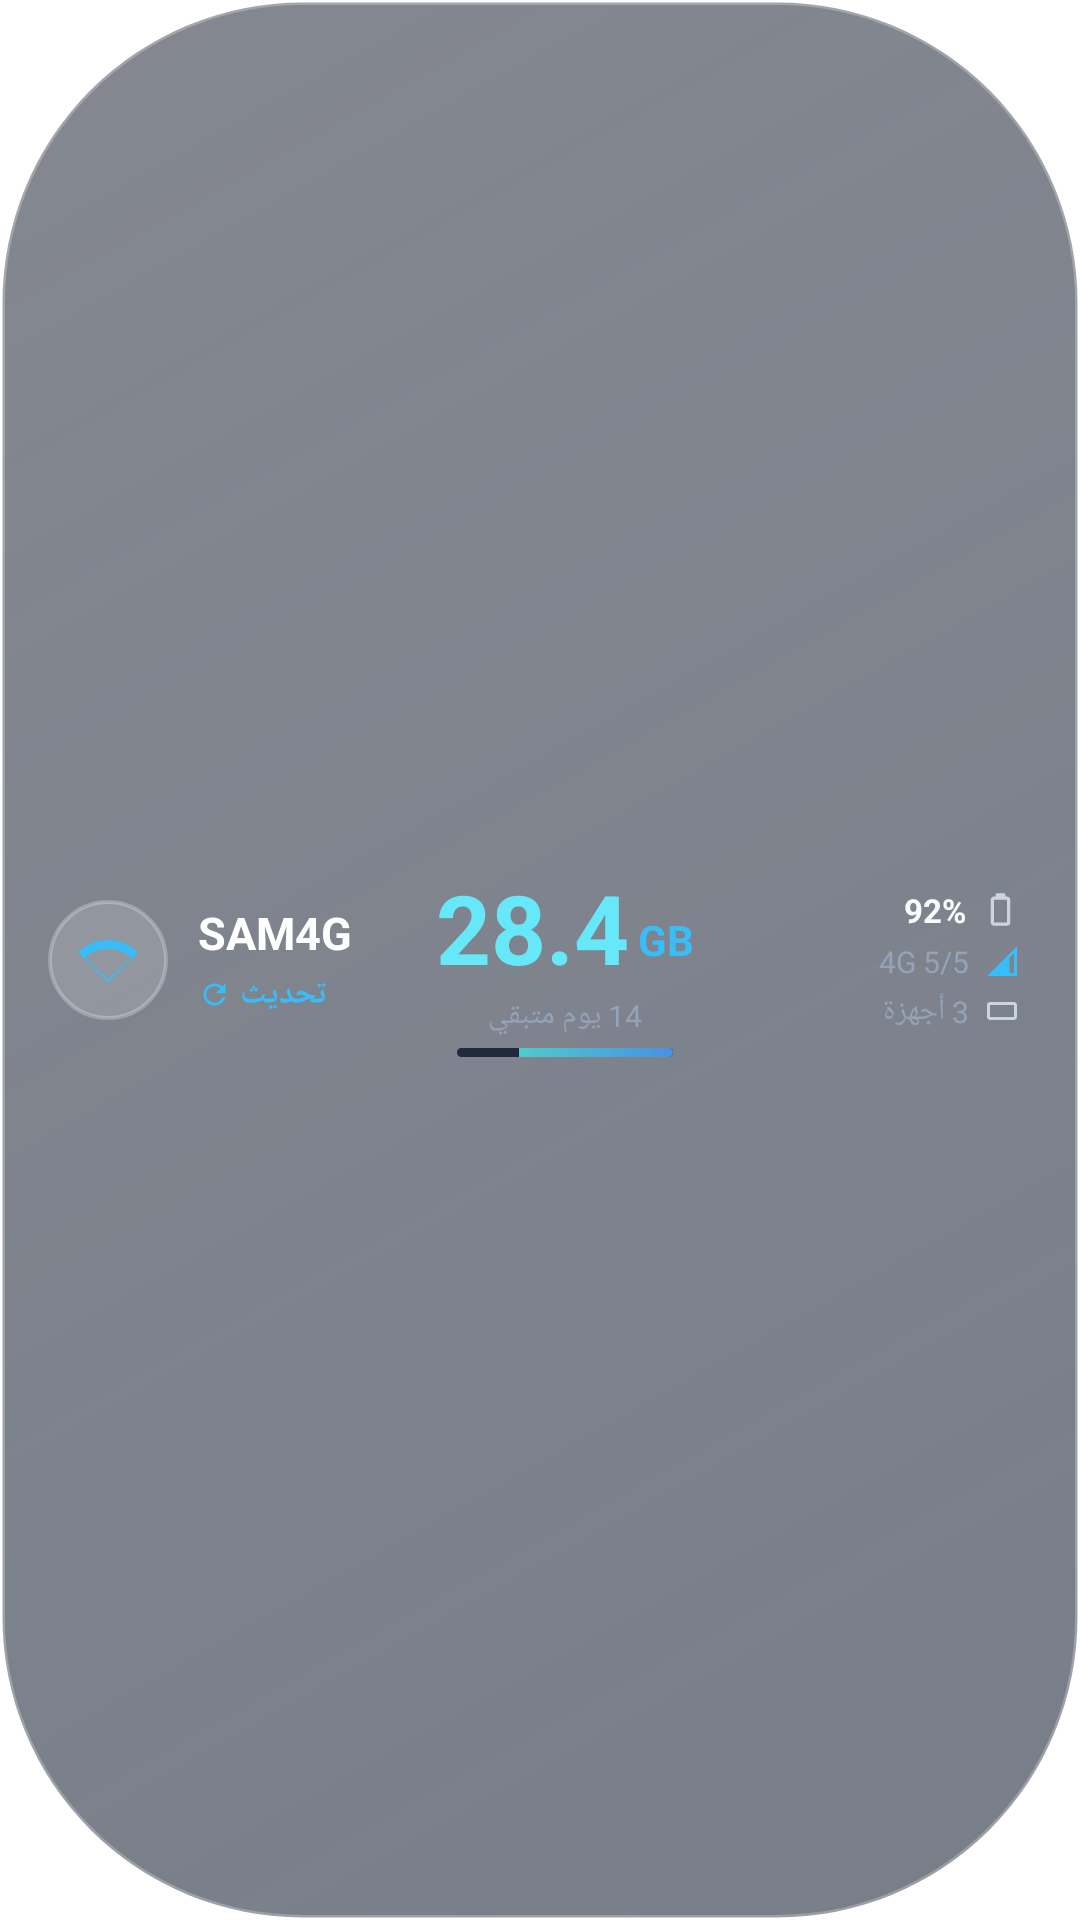

Icon click points for this 1080 × 1920 phone screenshot, format (x=x, y=y):
widget battery: (x=1000, y=909)
widget signal: (x=1002, y=961)
widget wifi cyan: (x=108, y=960)
